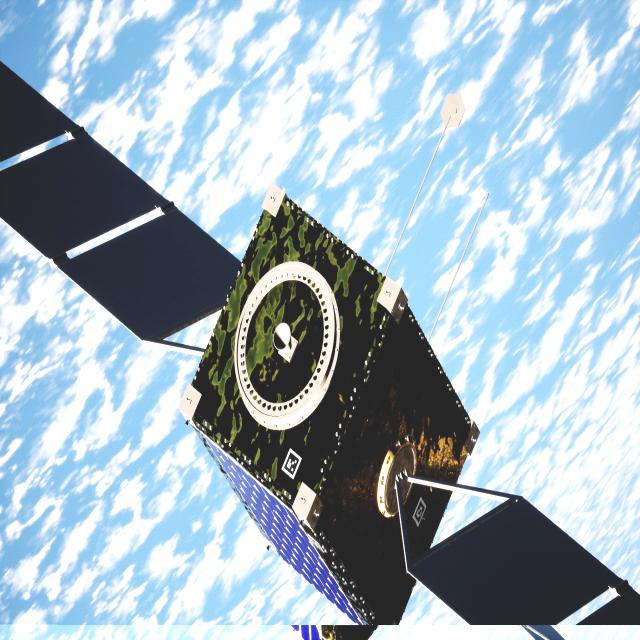satellite: (0, 61, 640, 640)
